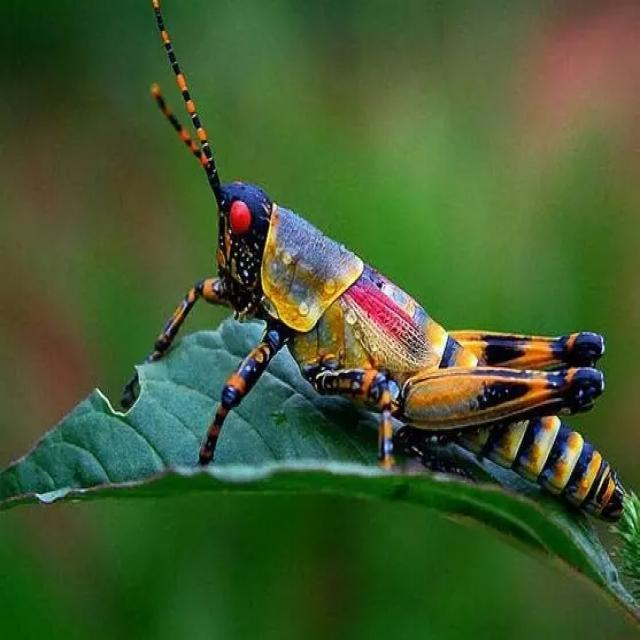ZhaMeng: (103, 13, 631, 554)
